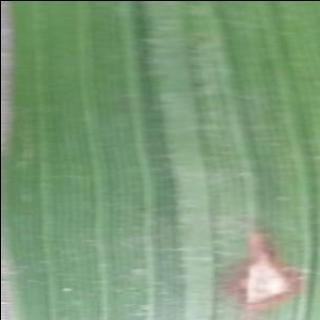Blast: (222, 242, 292, 315)
